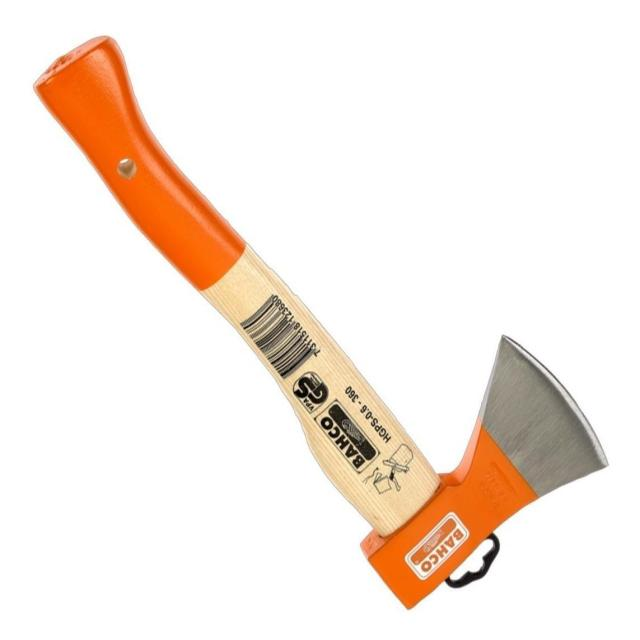Kapak: (29, 34, 612, 609)
